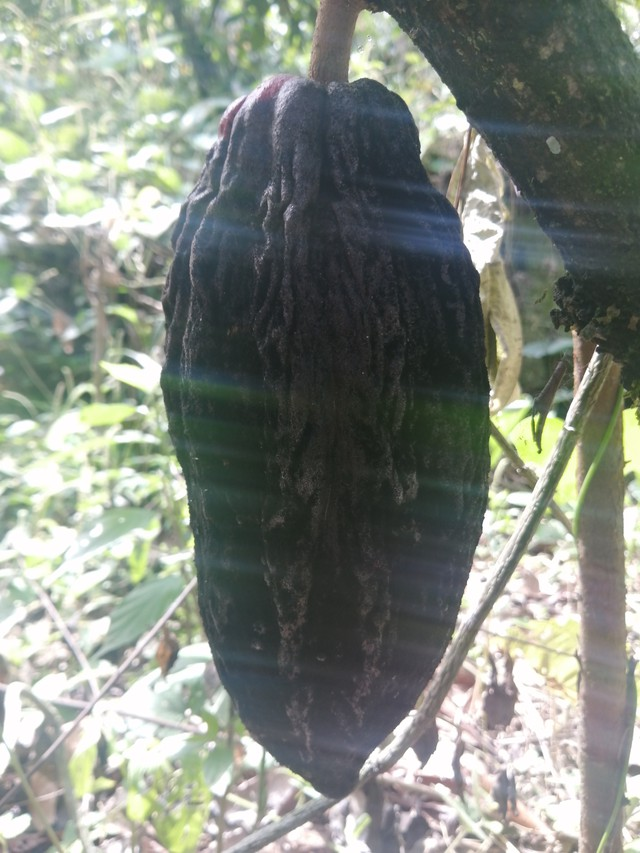phytophthora palmivora: (142, 62, 506, 807)
